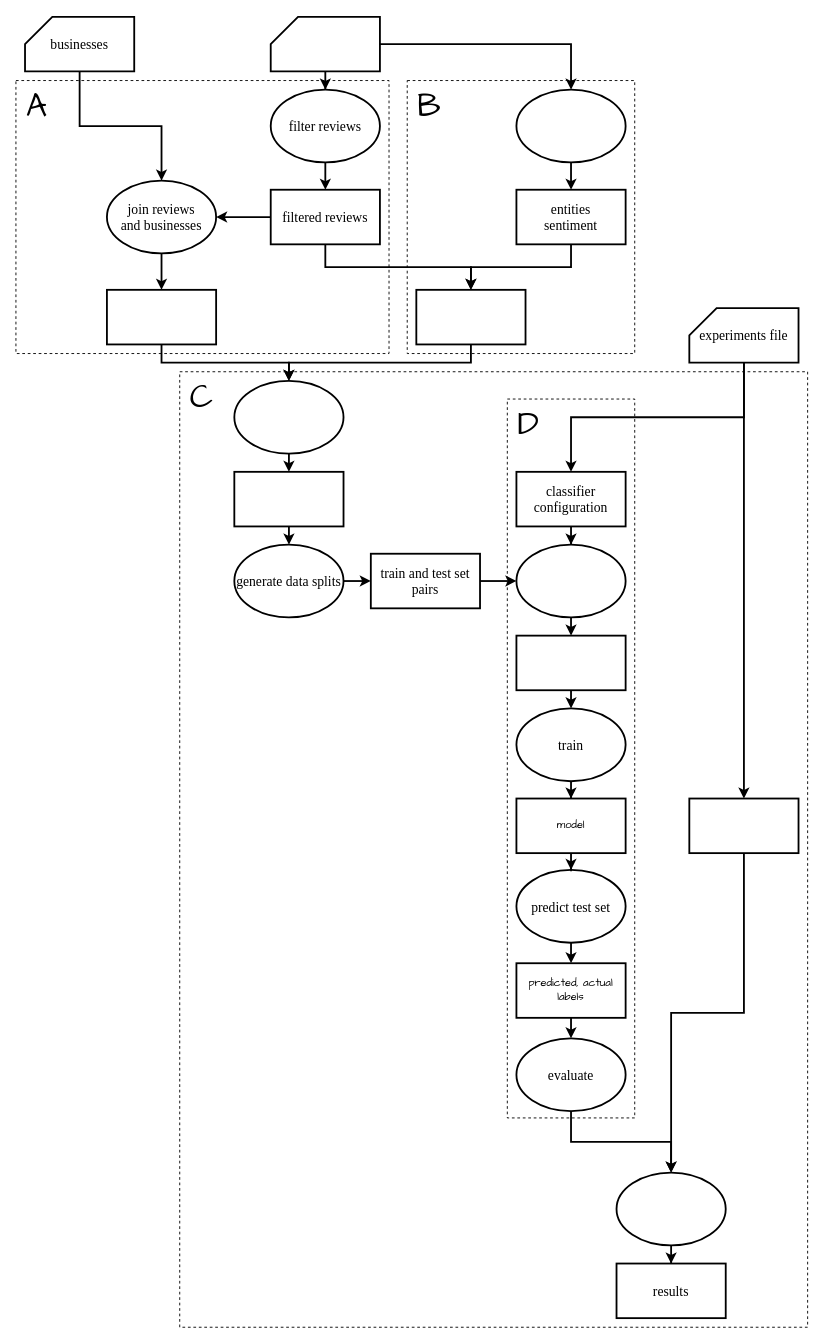
Image size: 824x1343. Some labels were removed from this diagram. The centre of each missing label's shape, as x and y in pixels:
"filtered entities and sentiment" belongs at (470,316).
"full instances" belongs at (288,498).
"generate full instances" belongs at (288,416).
"generate samples" belongs at (570,580).
"graphs specification" belongs at (743,825).
"instance file" belongs at (161,316).
"NLP analysis" belongs at (570,125).
"plot data" belongs at (670,1208).
"preprocessed instances" belongs at (570,662).
"reviews" belongs at (324,43).
